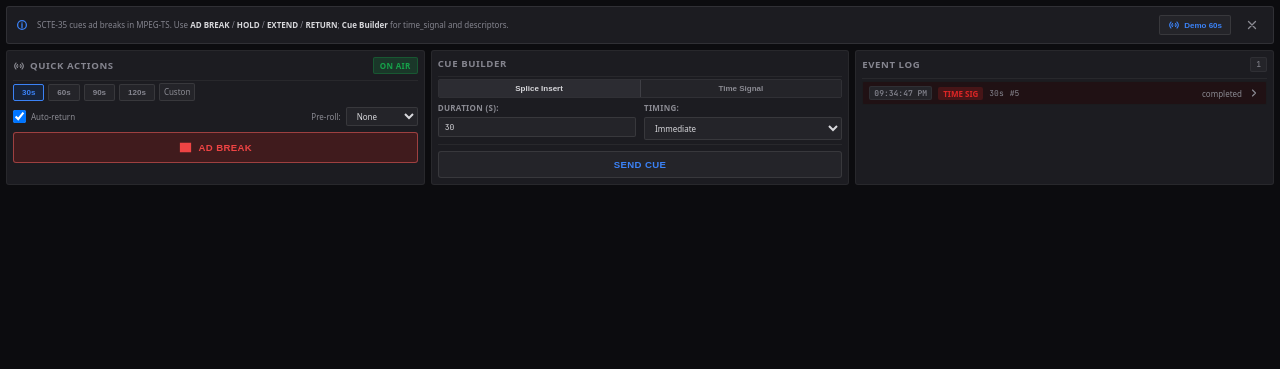
Test case: SCTE35Panel › shows descriptors section in inline detail when event has descriptors
Click the button with class "log-row" at (901, 93), box [863,82,1266,104]
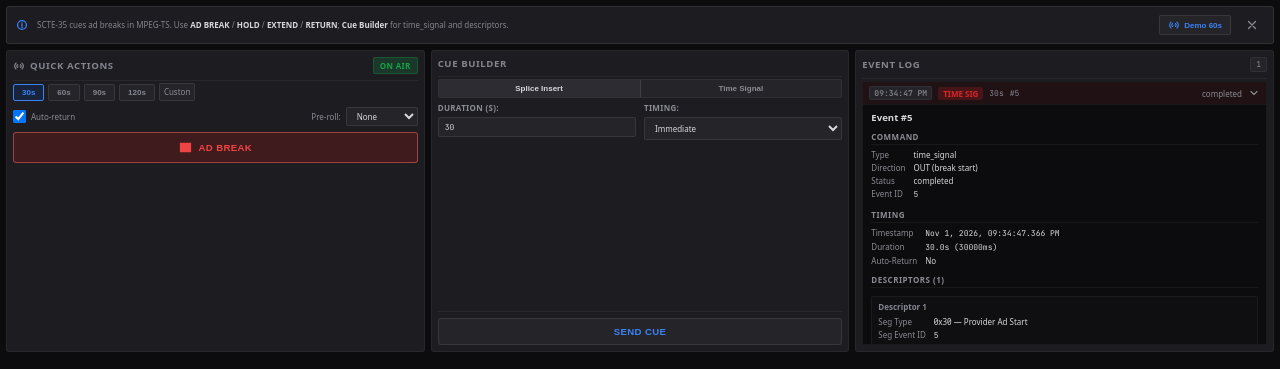
Result: the element with class "log-detail" shows "Descriptors (1)" at [871,274,944,285]
Result: the element with class "log-detail" shows "Provider Ad Start" at [934,316,1028,327]
